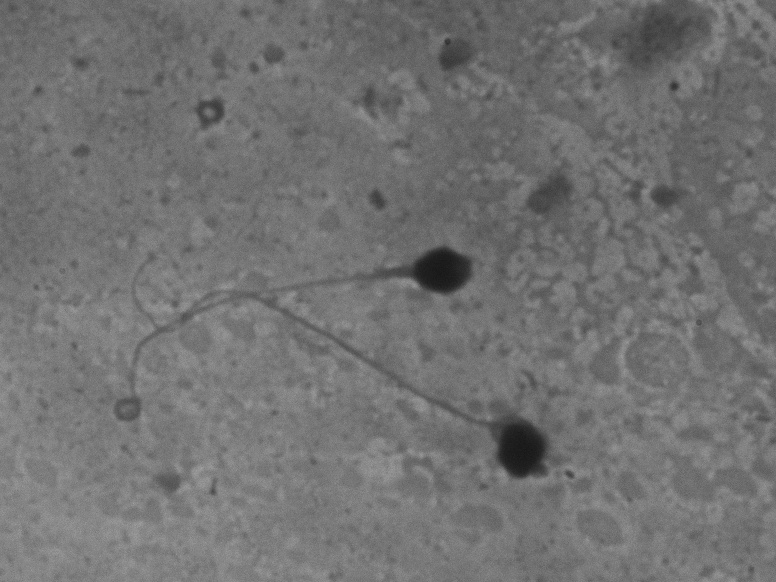Abnormal: (80, 273, 566, 492), (113, 216, 553, 335)
